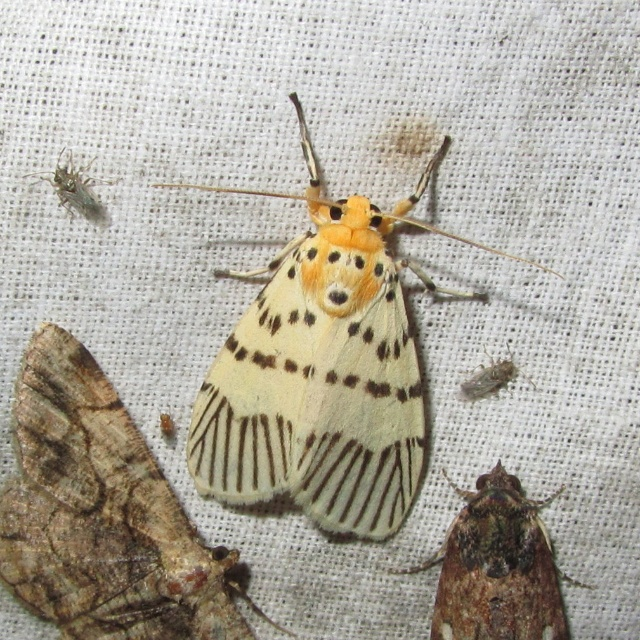Butterfly: (152, 94, 565, 541), (0, 321, 299, 639), (368, 458, 600, 639)
